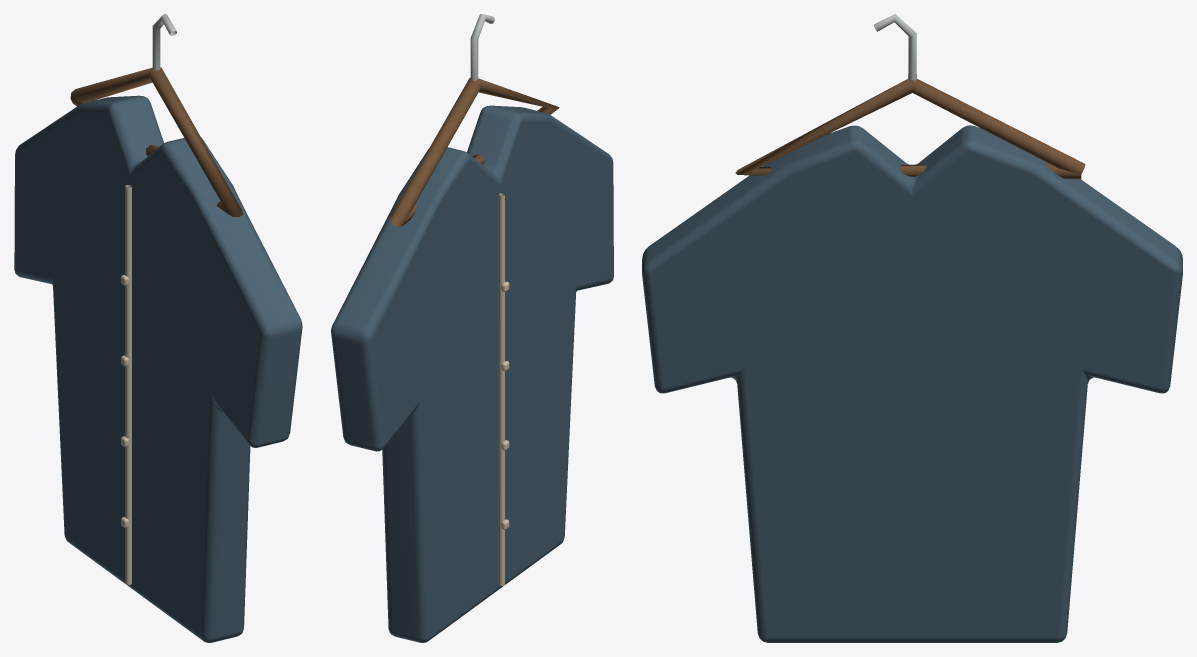
File: garment.glb
3 renders of one model, left to right at view 1: azimuth 30°, elevation 25°; view 2: azimuth 150°, elevation 25°; view 3: azimuth 270°, elevation 25°, orthographic. The views are drawn at different scales.
Visible parts, largest first — view 1: Shirt with sleeves, Wooden hanger, Shirt placket, Hanger hook; view 2: Shirt with sleeves, Wooden hanger, Shirt placket, Hanger hook; view 3: Shirt with sleeves, Wooden hanger, Hanger hook.
Part boxes in pixels (left/top/right/bottom): Shirt with sleeves: left=14, top=95, right=302, bottom=642; Wooden hanger: left=70, top=67, right=242, bottom=216; Shirt placket: left=125, top=185, right=131, bottom=584; Hanger hook: left=152, top=14, right=176, bottom=70; Shirt with sleeves: left=331, top=105, right=613, bottom=642; Wooden hanger: left=390, top=77, right=559, bottom=227; Shirt placket: left=498, top=193, right=504, bottom=585; Hanger hook: left=470, top=14, right=494, bottom=80; Shirt with sleeves: left=642, top=125, right=1182, bottom=642; Wooden hanger: left=735, top=79, right=1085, bottom=179; Hanger hook: left=874, top=14, right=916, bottom=80.
Size of the model in its own units: 0.096 by 0.9359 by 0.7374.
